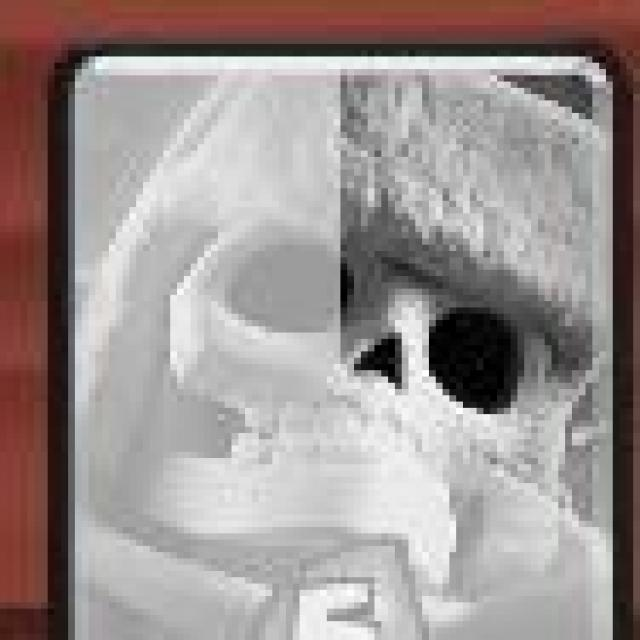Giant_Skeleton: (48, 46, 631, 640)
